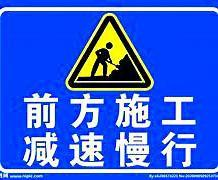sign: (2, 4, 216, 175)
